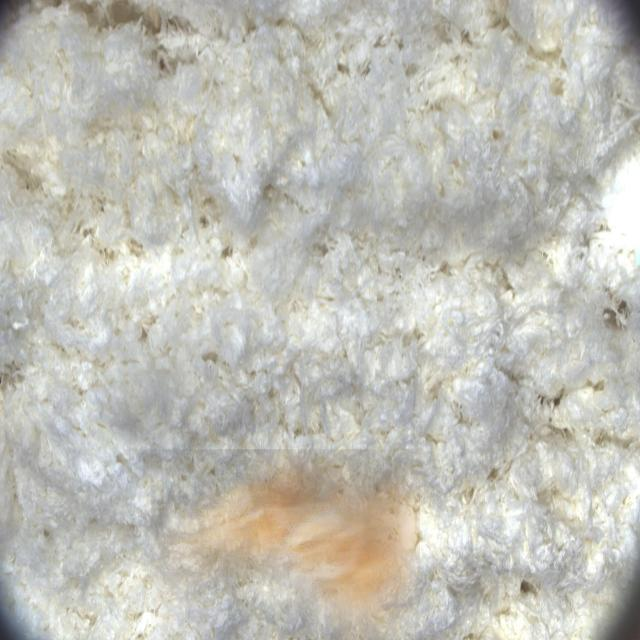dust: (151, 449, 420, 640)
